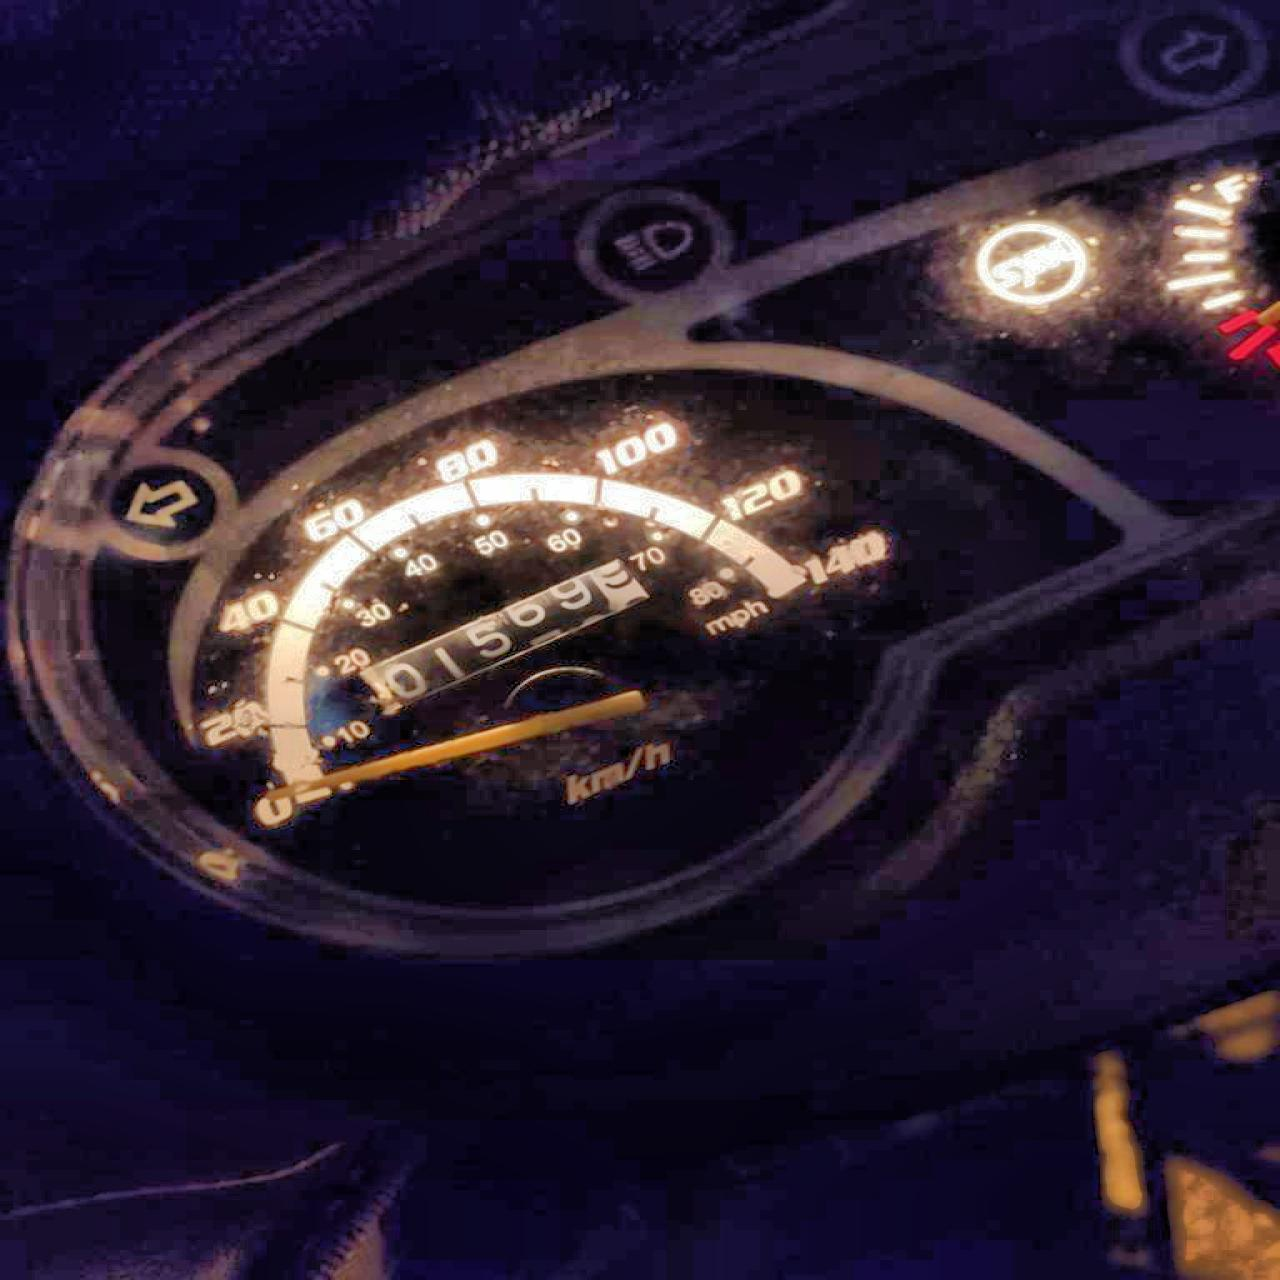0: (382, 661, 428, 700), (368, 599, 392, 620), (415, 551, 437, 571), (350, 646, 370, 665)
1: (427, 641, 470, 682)
3: (355, 608, 376, 627)
4: (402, 558, 423, 579)
5: (462, 620, 511, 655)
6: (497, 594, 546, 625)
7: (627, 551, 651, 572)
9: (587, 556, 635, 590), (545, 578, 595, 608)
odometer: (355, 551, 660, 719)
